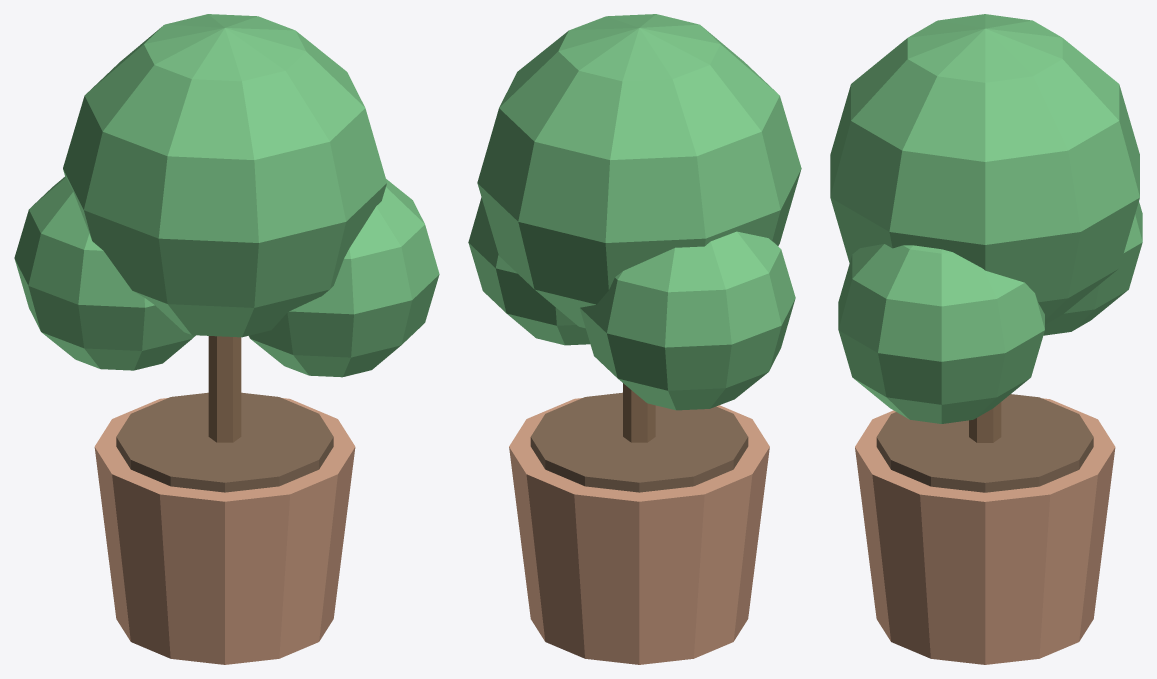
File: plant.glb
3 views of the same model, side by side, from view 1: azimuth 30°, elevation 25°; view 2: azimuth 150°, elevation 25°; view 3: azimuth 270°, elevation 25° (orthographic).
Parts seen in each view (by area): view 1: plant; view 2: plant; view 3: plant.
Part boxes in pixels (box(x1,y1,x2,y2)): plant: box(14, 14, 439, 664); plant: box(468, 14, 801, 664); plant: box(830, 14, 1142, 664).
Bounding box in the file's own units: 0.74 × 1.2 × 0.5755.
